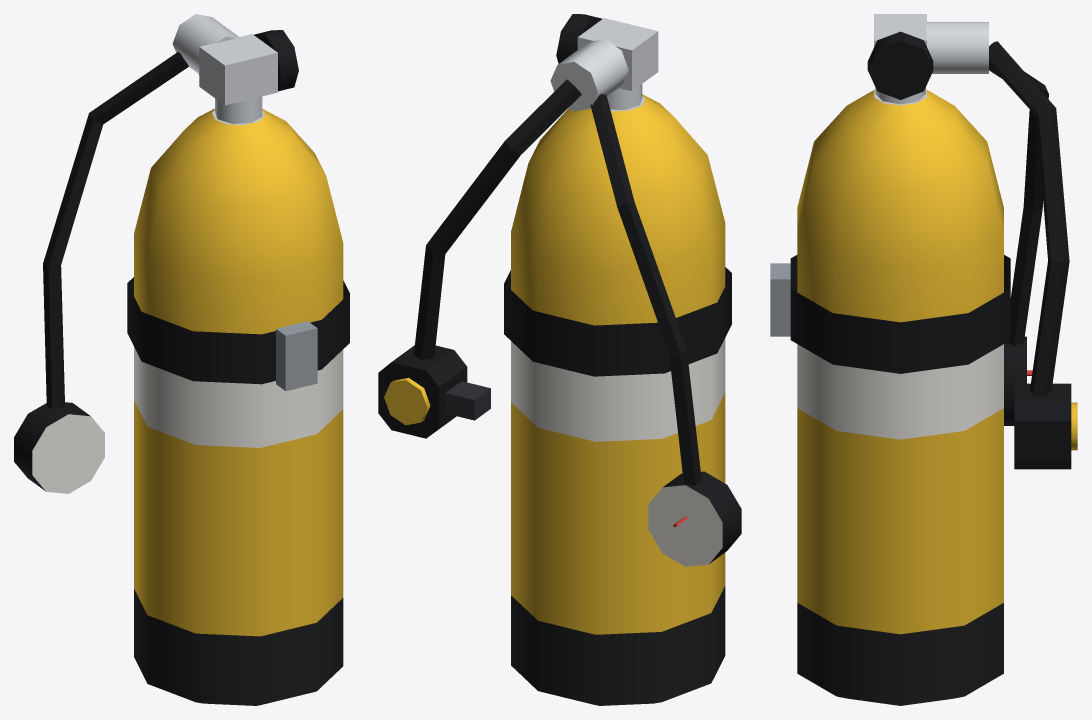
The model's file is pickup_scuba.glb.
The picture shows the model from 3 angles, left to right: view 1: azimuth 30°, elevation 25°; view 2: azimuth 150°, elevation 25°; view 3: azimuth 270°, elevation 25°; orthographic projection. The views are drawn at different scales.
Visible parts, largest first — view 1: pickup_scuba__body; view 2: pickup_scuba__body; view 3: pickup_scuba__body.
Boxes of the visible parts, x1,y1,x2,y2 form: pickup_scuba__body: (14, 14, 349, 705); pickup_scuba__body: (378, 14, 741, 705); pickup_scuba__body: (770, 14, 1077, 705).
Bounding box in the file's own units: 0.2972 × 0.568 × 0.243.
Materials: 1 (1 with a texture image).
